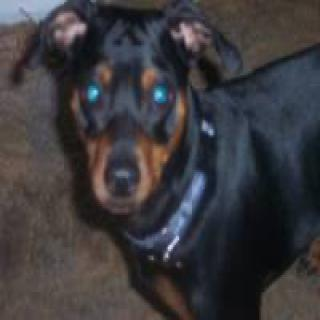dog: (37, 2, 238, 231)
